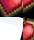heart: (0, 0, 23, 17), (23, 17, 34, 40), (23, 0, 34, 17)
